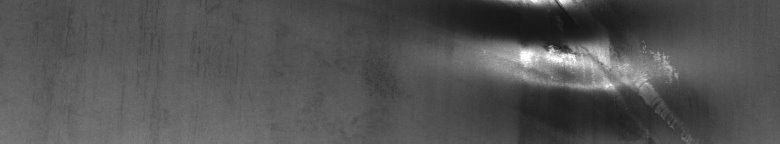ke: (506, 4, 678, 100)
